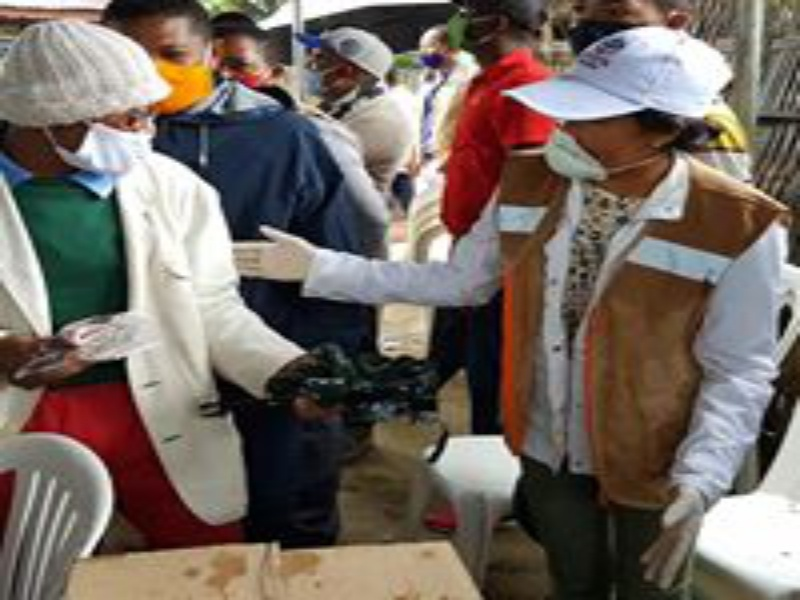ManaoArotava: (514, 39, 720, 214), (20, 36, 186, 205)
